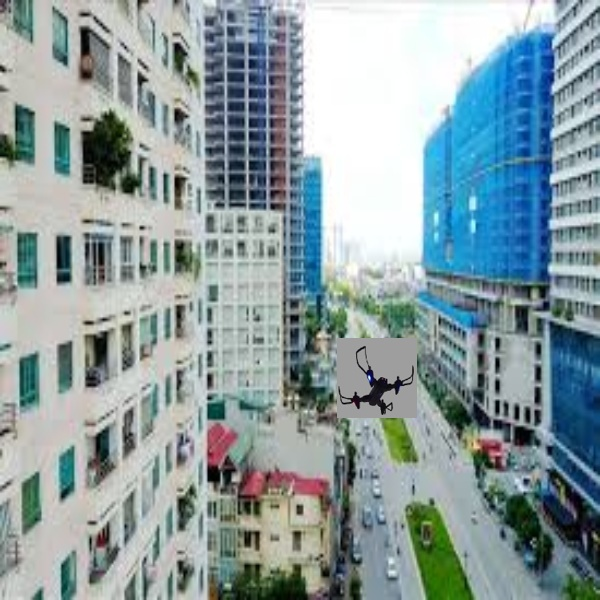drone: (335, 339, 418, 418)
